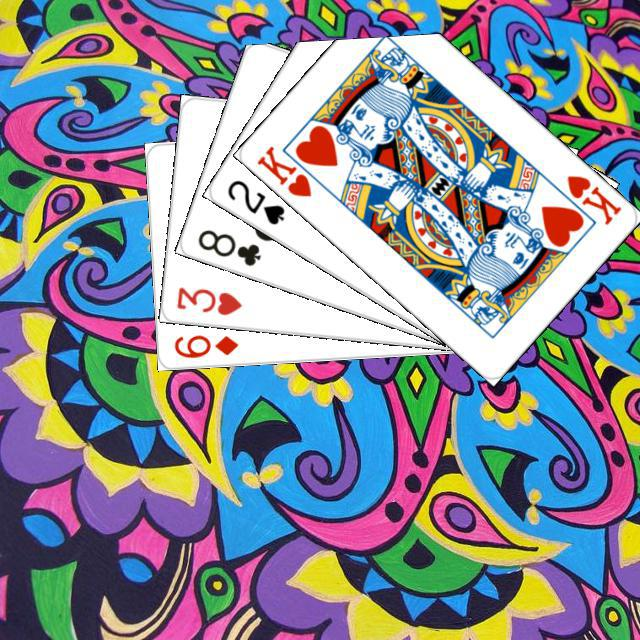2s: (222, 174, 287, 227)
3h: (171, 282, 244, 317)
6d: (169, 330, 240, 360)
8c: (192, 224, 263, 268)
Kh: (252, 140, 329, 199), (561, 170, 624, 227)
